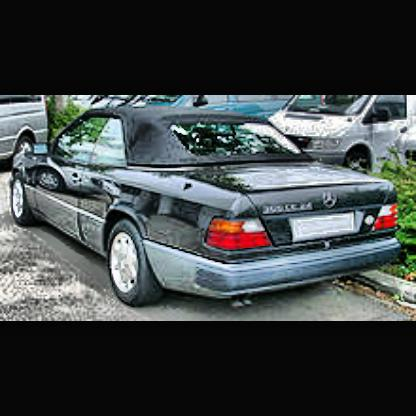Mercedes-Benz 300-Class Convertible 1993: (5, 101, 411, 316)
